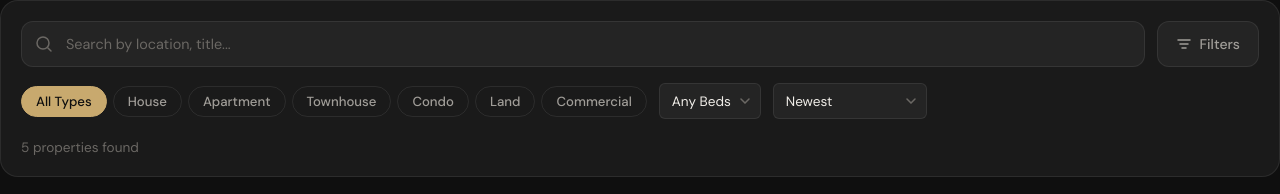
FilterBar › shows clear all button when filters are active
Click the button "Condo".
click(433, 101)  # box x1=397 y1=86 x2=469 y2=116
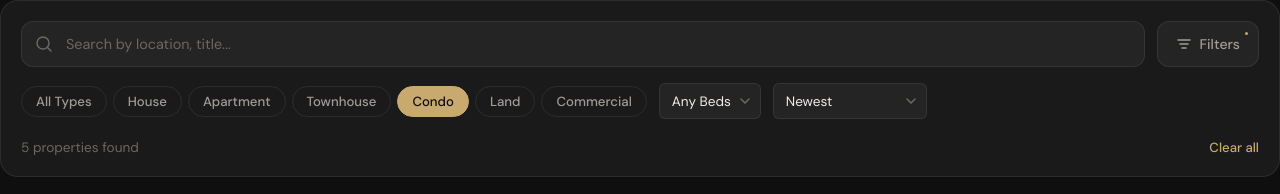
Now the button "Clear all" is shown, box x1=1209 y1=139 x2=1259 y2=156
